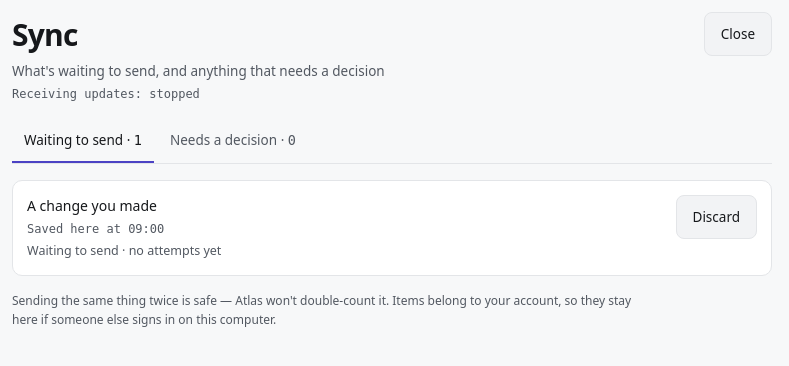
Test: the queue panel (WF-QUEUE-01) › a refused discard says so and keeps the row
Click the button with aria-label "Discard:". click: (716, 217)
box: [676,195,757,239]
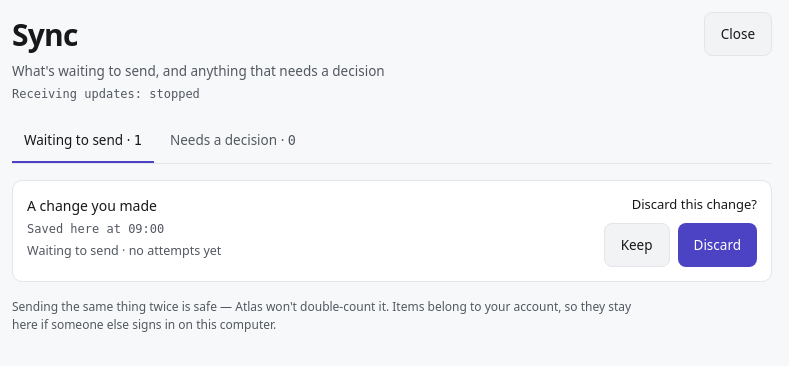
Click the button "Discard". click: (717, 245)
box: [678,223,757,267]
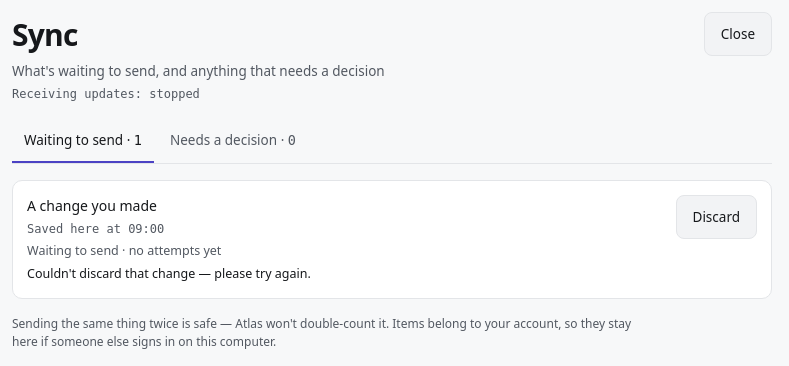
Expected: the list item is shown, [12,180,772,299]
Now the text "Couldn't discard that change — please try again." is shown, box [27,265,311,282]
